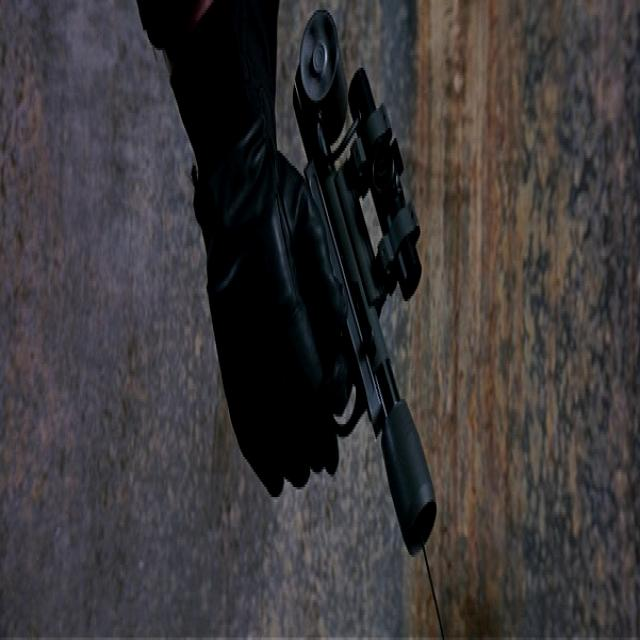pistol: (253, 0, 452, 565)
